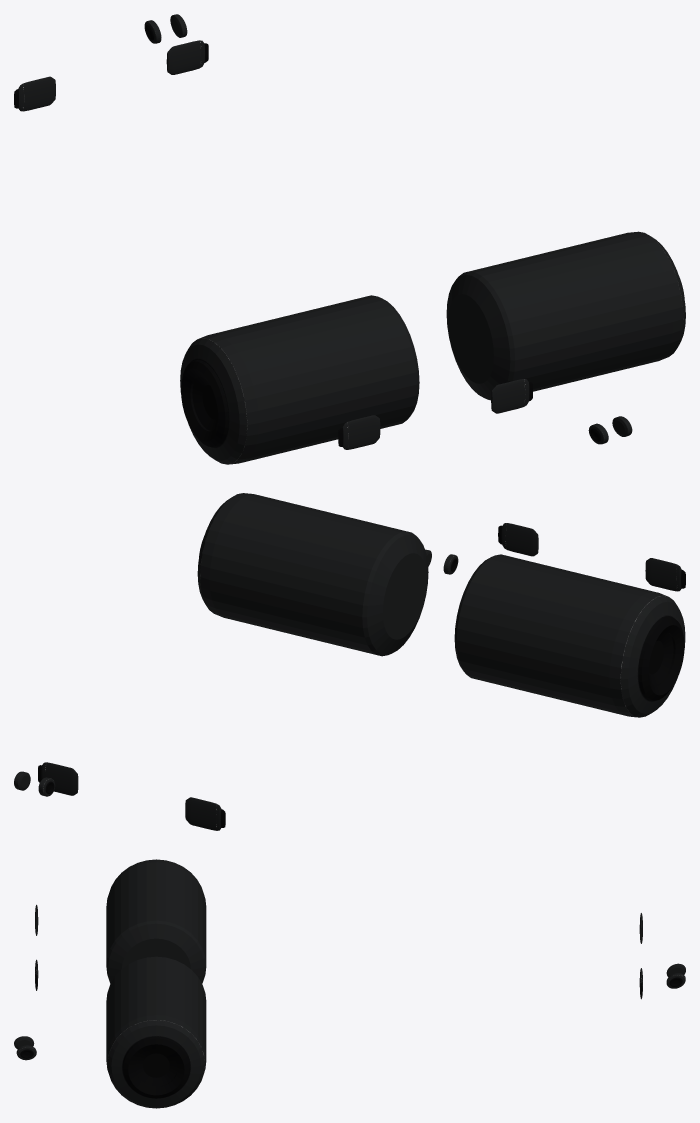
File: arriere.dae
The picture shows the model from 3 angles, top to bottom: view 1: azimuth 30°, elevation 25°; view 2: azimuth 150°, elevation 25°; view 3: azimuth 270°, elevation 25°; orthographic projection. The views are drawn at different scales.
Visible parts, largest first — view 1: Sketchfab Stange.002_0, Sketchfab Stange_0, Boden, Sketchfab Stange.003_0, Sketchfab Stange.001_0, Sketchfab Nummernschild vorne_0, Sketchfab Nummernschild vorne.001_0; view 2: Sketchfab Stange.002_0, Sketchfab Stange_0, Boden, Sketchfab Stange.001_0, Sketchfab Stange.003_0, Sketchfab Nummernschild vorne_0, Sketchfab Nummernschild vorne.001_0, 01 Aufkleber Quadra vorne.001; view 3: Sketchfab Stange_0, Sketchfab Stange.002_0, Boden, Sketchfab Stange.003_0, Sketchfab Stange.001_0, 01 Aufkleber Quadra vorne, 01 Aufkleber Quadra vorne.001.
Part boxes in pixels (box(x1,y1,x2,y2)): Sketchfab Stange.002_0: box(180, 263, 550, 464); Sketchfab Stange_0: box(340, 231, 685, 428); Boden: box(275, 248, 611, 446); Sketchfab Stange.003_0: box(249, 256, 578, 453); Sketchfab Stange.001_0: box(309, 241, 644, 424); Sketchfab Nummernschild vorne_0: box(338, 379, 532, 449); Sketchfab Nummernschild vorne.001_0: box(14, 40, 208, 111); Sketchfab Stange.002_0: box(328, 523, 685, 717); Sketchfab Stange_0: box(197, 493, 533, 686); Boden: box(269, 508, 594, 700); Sketchfab Stange.001_0: box(236, 501, 560, 692); Sketchfab Stange.003_0: box(301, 517, 622, 708); Sketchfab Nummernschild vorne_0: box(498, 523, 685, 591); Sketchfab Nummernschild vorne.001_0: box(38, 762, 225, 830); 01 Aufkleber Quadra vorne.001: box(14, 771, 55, 796); Sketchfab Stange_0: box(106, 907, 206, 1108); Sketchfab Stange.002_0: box(106, 859, 206, 1010); Boden: box(106, 885, 206, 1035); Sketchfab Stange.003_0: box(106, 872, 206, 1022); Sketchfab Stange.001_0: box(106, 897, 206, 1045); 01 Aufkleber Quadra vorne: box(14, 1036, 36, 1060); 01 Aufkleber Quadra vorne.001: box(666, 963, 685, 988).
Size of the model in its own units: 10.7 by 17.69 by 2.63.
1 material, 1 textured.
